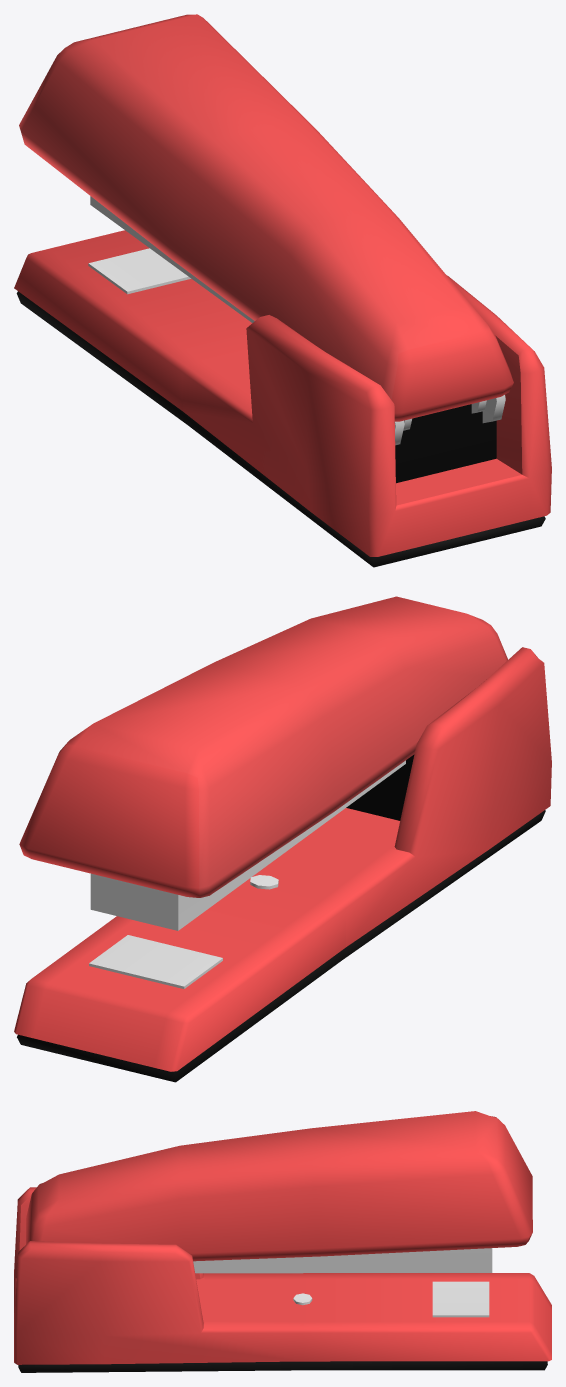
The model's file is SM_Stapler.fbx.
3 renders of one model, top to bottom at view 1: azimuth 30°, elevation 25°; view 2: azimuth 150°, elevation 25°; view 3: azimuth 270°, elevation 25°, orthographic. The views are drawn at different scales.
Parts seen in each view (by area): view 1: Stapler; view 2: Stapler; view 3: Stapler.
Part boxes in pixels (box(x1,y1,x2,y2)): Stapler: box(14, 14, 551, 567); Stapler: box(14, 596, 551, 1082); Stapler: box(14, 1111, 551, 1372).
Bounding box in the file's own units: 7.97 × 11.47 × 26.26.
3 materials, 3 textured.
